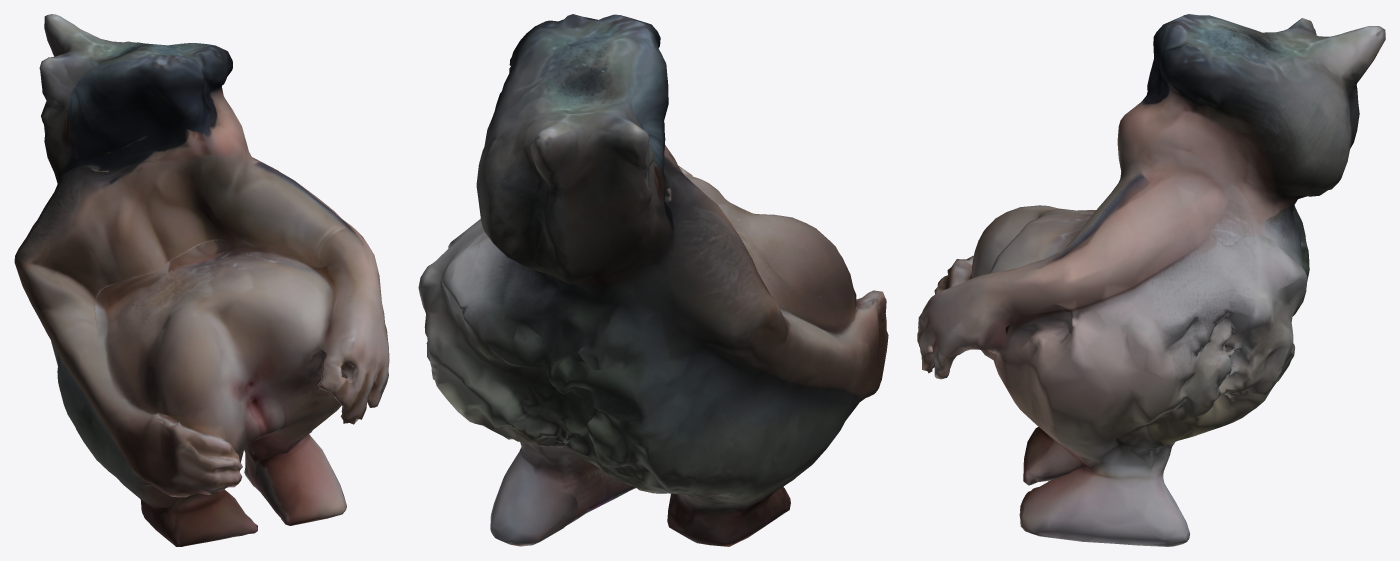
Rendered from Wom3.glb.
The picture shows the model from 3 angles, left to right: view 1: azimuth 30°, elevation 25°; view 2: azimuth 150°, elevation 25°; view 3: azimuth 270°, elevation 25°; orthographic projection. The views are drawn at different scales.
Size of the model in its own units: 0.8147 by 1.2 by 1.07.
1 material, 1 textured.
